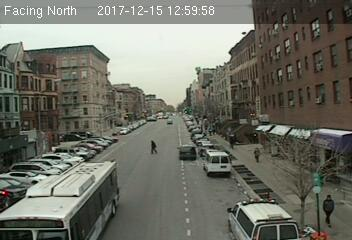bus: (1, 160, 121, 240)
car: (203, 149, 232, 176), (177, 144, 198, 161)
pedestrian: (322, 193, 336, 228), (251, 146, 263, 163), (148, 139, 158, 155)
police: (225, 198, 302, 240)
